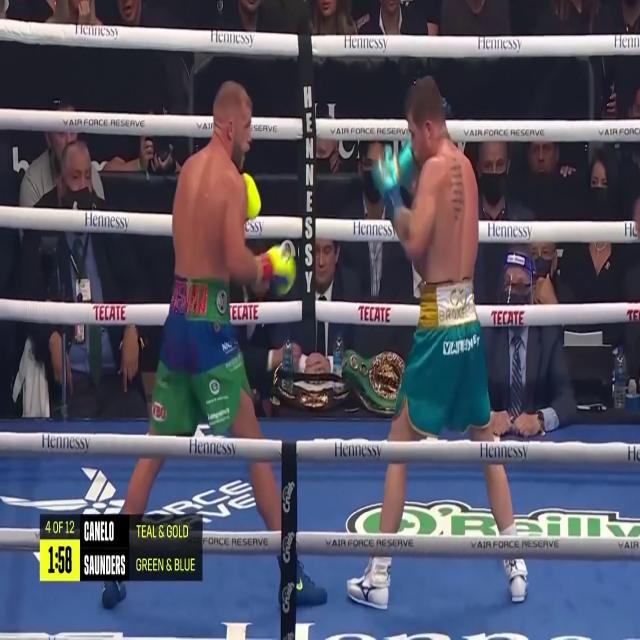boxer_1: (172, 82, 259, 284)
boxer_2: (395, 75, 479, 284), (381, 469, 404, 532)
gloves_1: (257, 239, 296, 295), (242, 172, 261, 219)
gloves_2: (372, 139, 417, 206)
